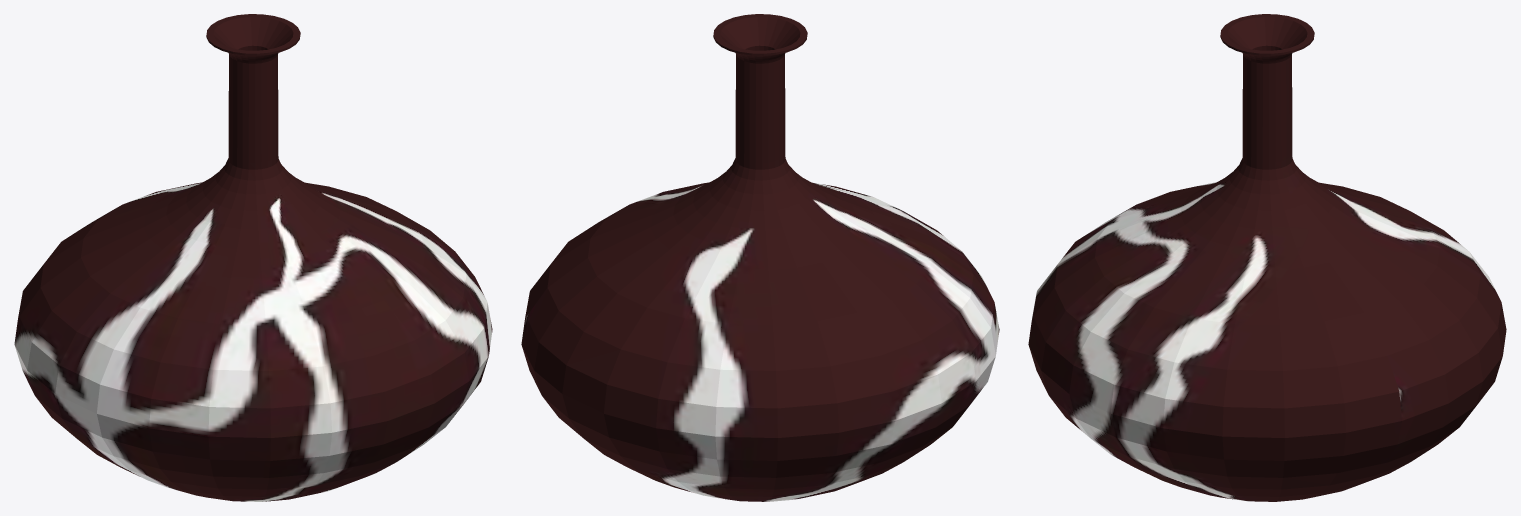
File: sh-scopia-vase3.glb
3 renders of one model, left to right at view 1: azimuth 30°, elevation 25°; view 2: azimuth 150°, elevation 25°; view 3: azimuth 270°, elevation 25°, orthographic.
Parts seen in each view (by area): view 1: vase2_Mesh.002; view 2: vase2_Mesh.002; view 3: vase2_Mesh.002.
Boxes of the visible parts, <box> form: vase2_Mesh.002: <box>14,14,492,501</box>; vase2_Mesh.002: <box>521,14,999,501</box>; vase2_Mesh.002: <box>1028,14,1506,501</box>.
Size of the model in its own units: 1 by 1 by 1.
Materials: 1 (1 with a texture image).
